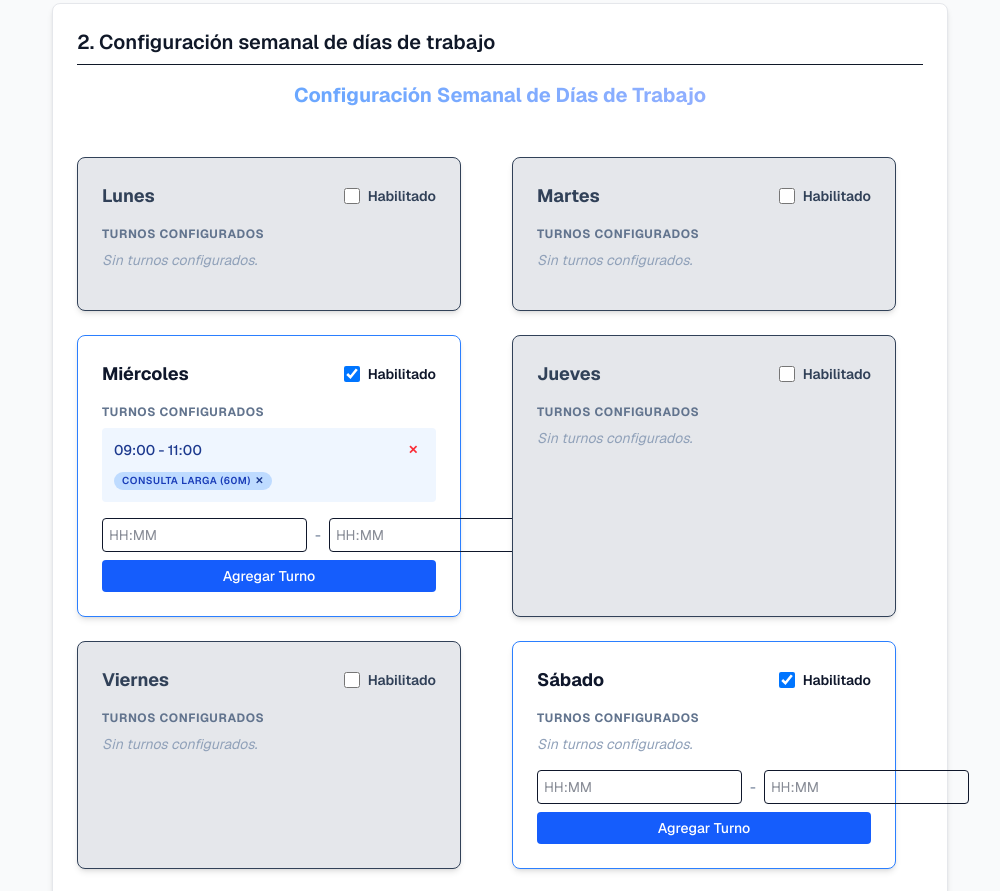
Test case: US_002 - Definir horario de turno y validar superposición › No debería permitir crear un turno que se superponga con otro existente (Flujo de Error)
The image size is (1000, 891).
(page scrolled)
Click the button with test id "btn-eliminar-turno-miércoles" at (413, 450), box [402,442,424,458]
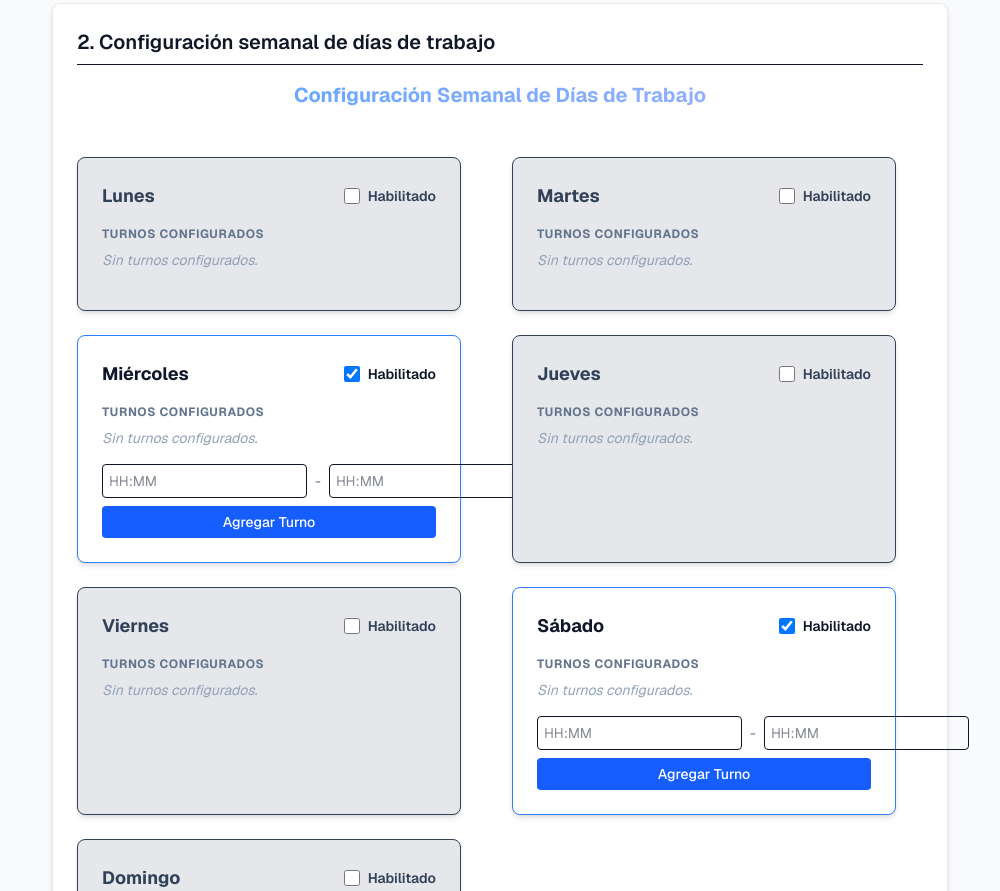
Type "09:00" into the field with test id "input-hora-inicio-miércoles" at (205, 481), box [102,464,307,498]
Type "10:00" into the field with test id "input-hora-fin-miércoles" at (432, 481), box [329,464,534,498]
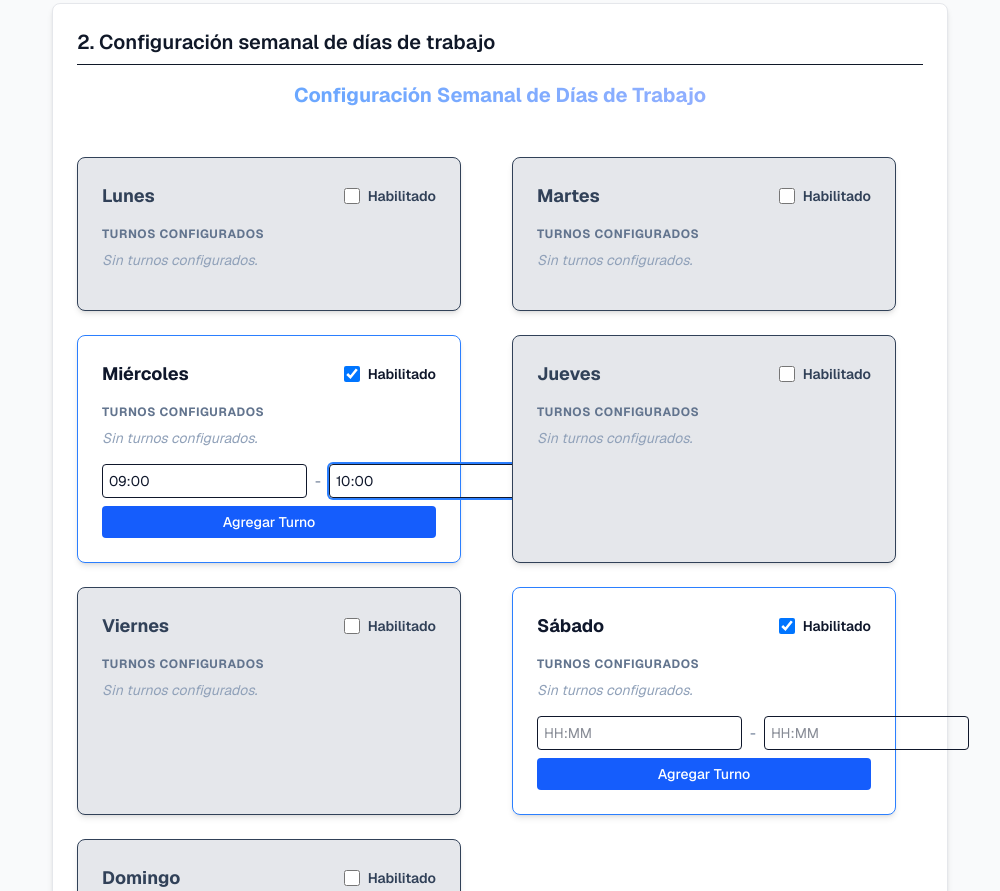
Click the button with test id "btn-agregar-turno-miércoles" at (269, 522), box [102,506,436,538]
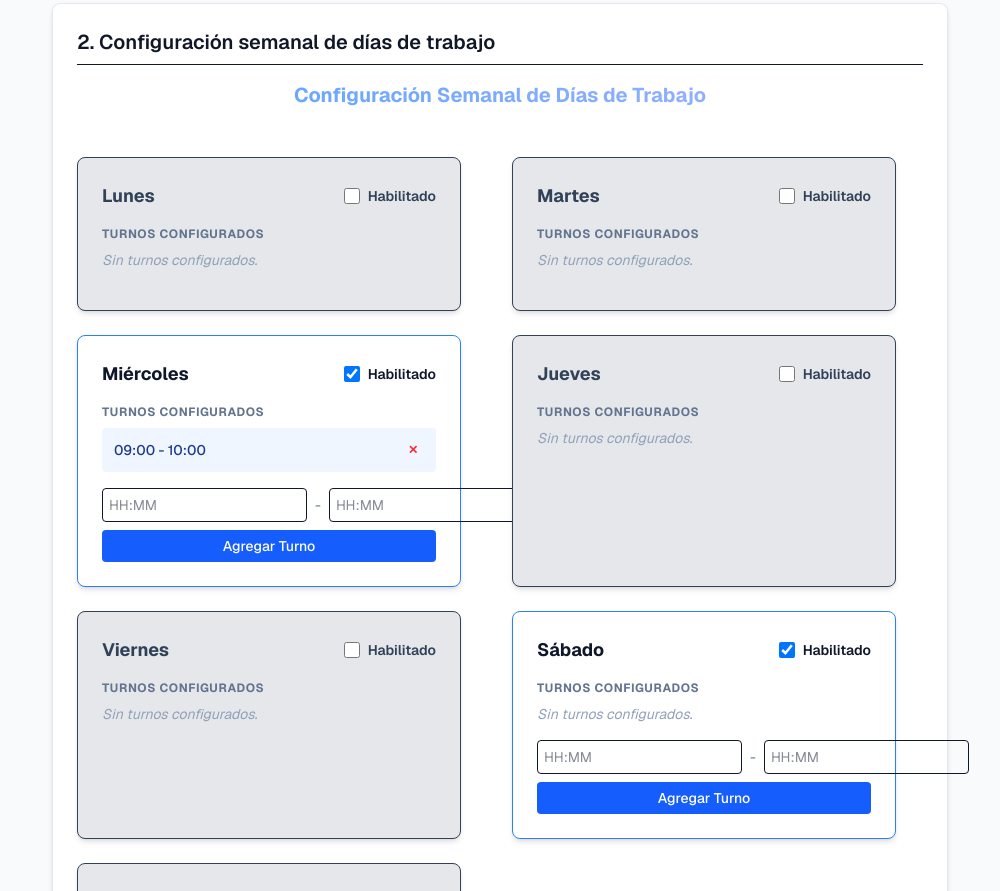
Type "09:30" into the field with test id "input-hora-inicio-miércoles" at (205, 505), box [102,488,307,522]
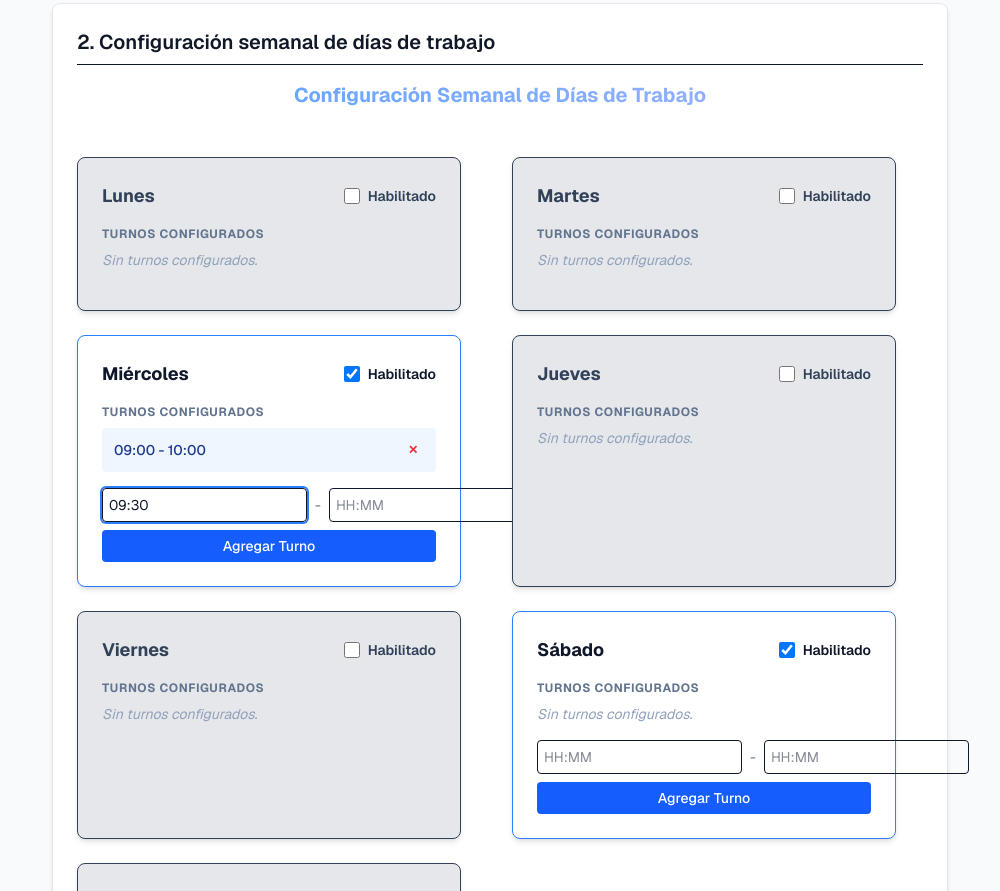
Type "11:00" into the field with test id "input-hora-fin-miércoles" at (432, 505), box [329,488,534,522]
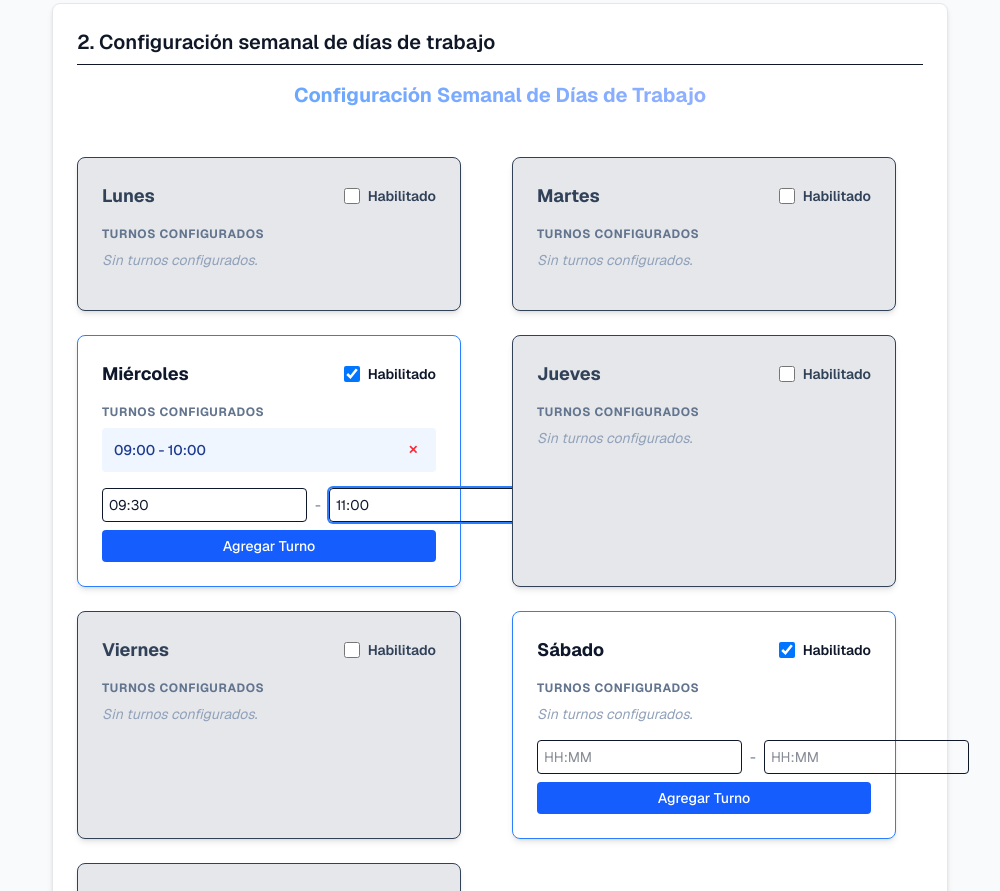
Click the button with test id "btn-agregar-turno-miércoles" at (269, 546), box [102,530,436,562]
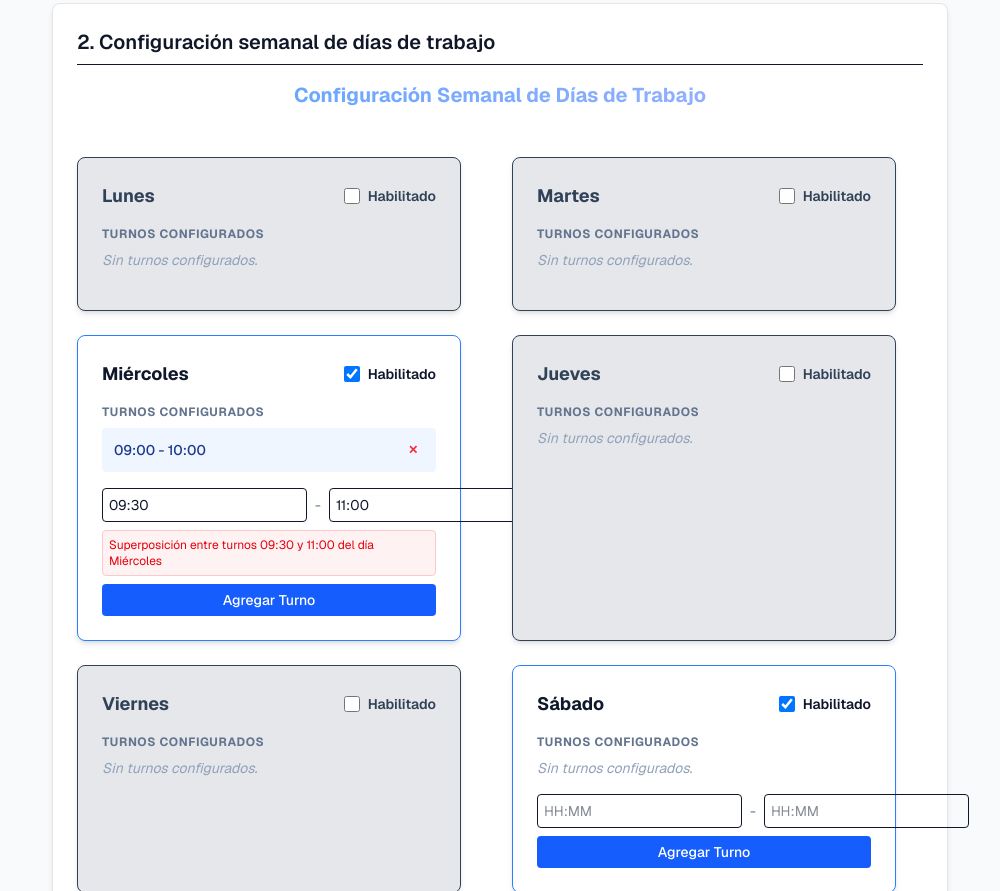
Expected: the text with test id "mensaje-error-turno-miércoles" shows "Superposición entre turnos", [102,530,436,576]
